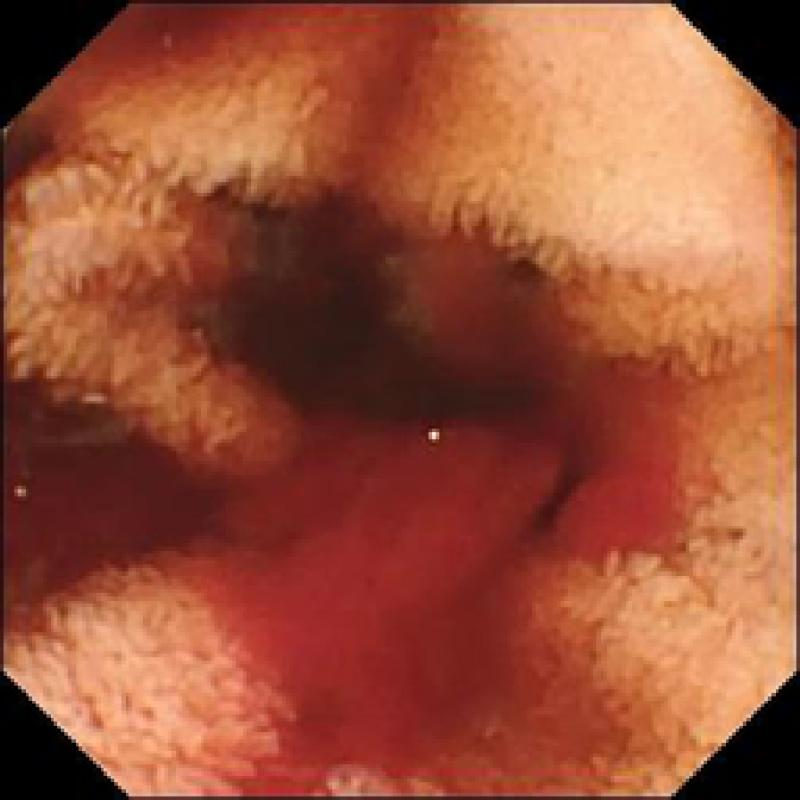bleeding: (193, 354, 696, 782)
